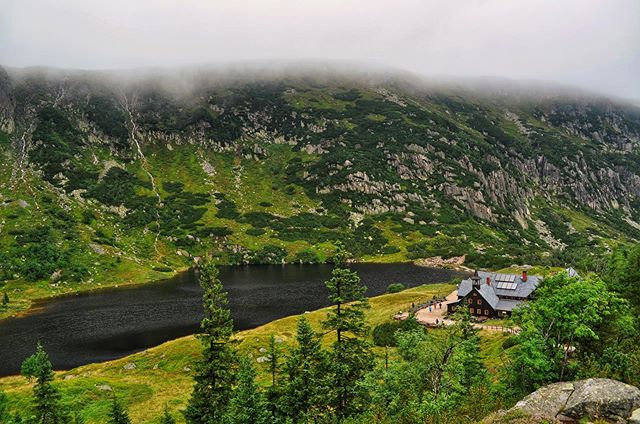building: (448, 266, 544, 334)
river: (1, 248, 440, 391)
sky: (1, 1, 632, 73)
vegetation: (1, 264, 627, 418)
